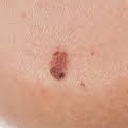Carcinoma: (48, 50, 71, 82)
